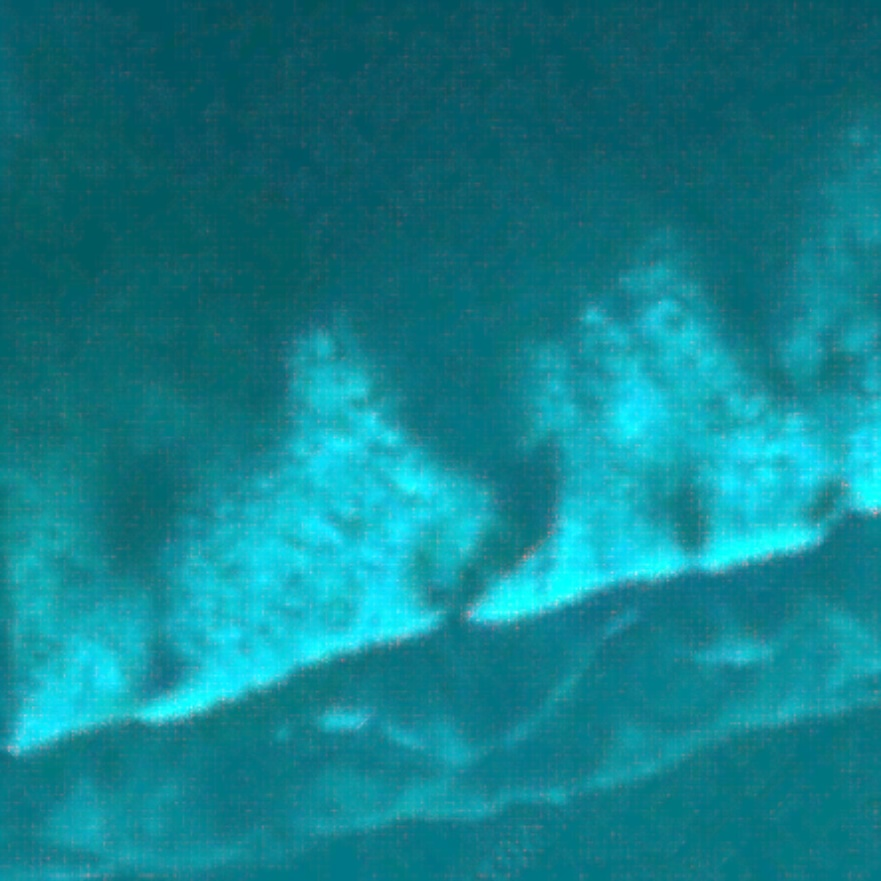rip_current: (286, 240, 587, 615)
